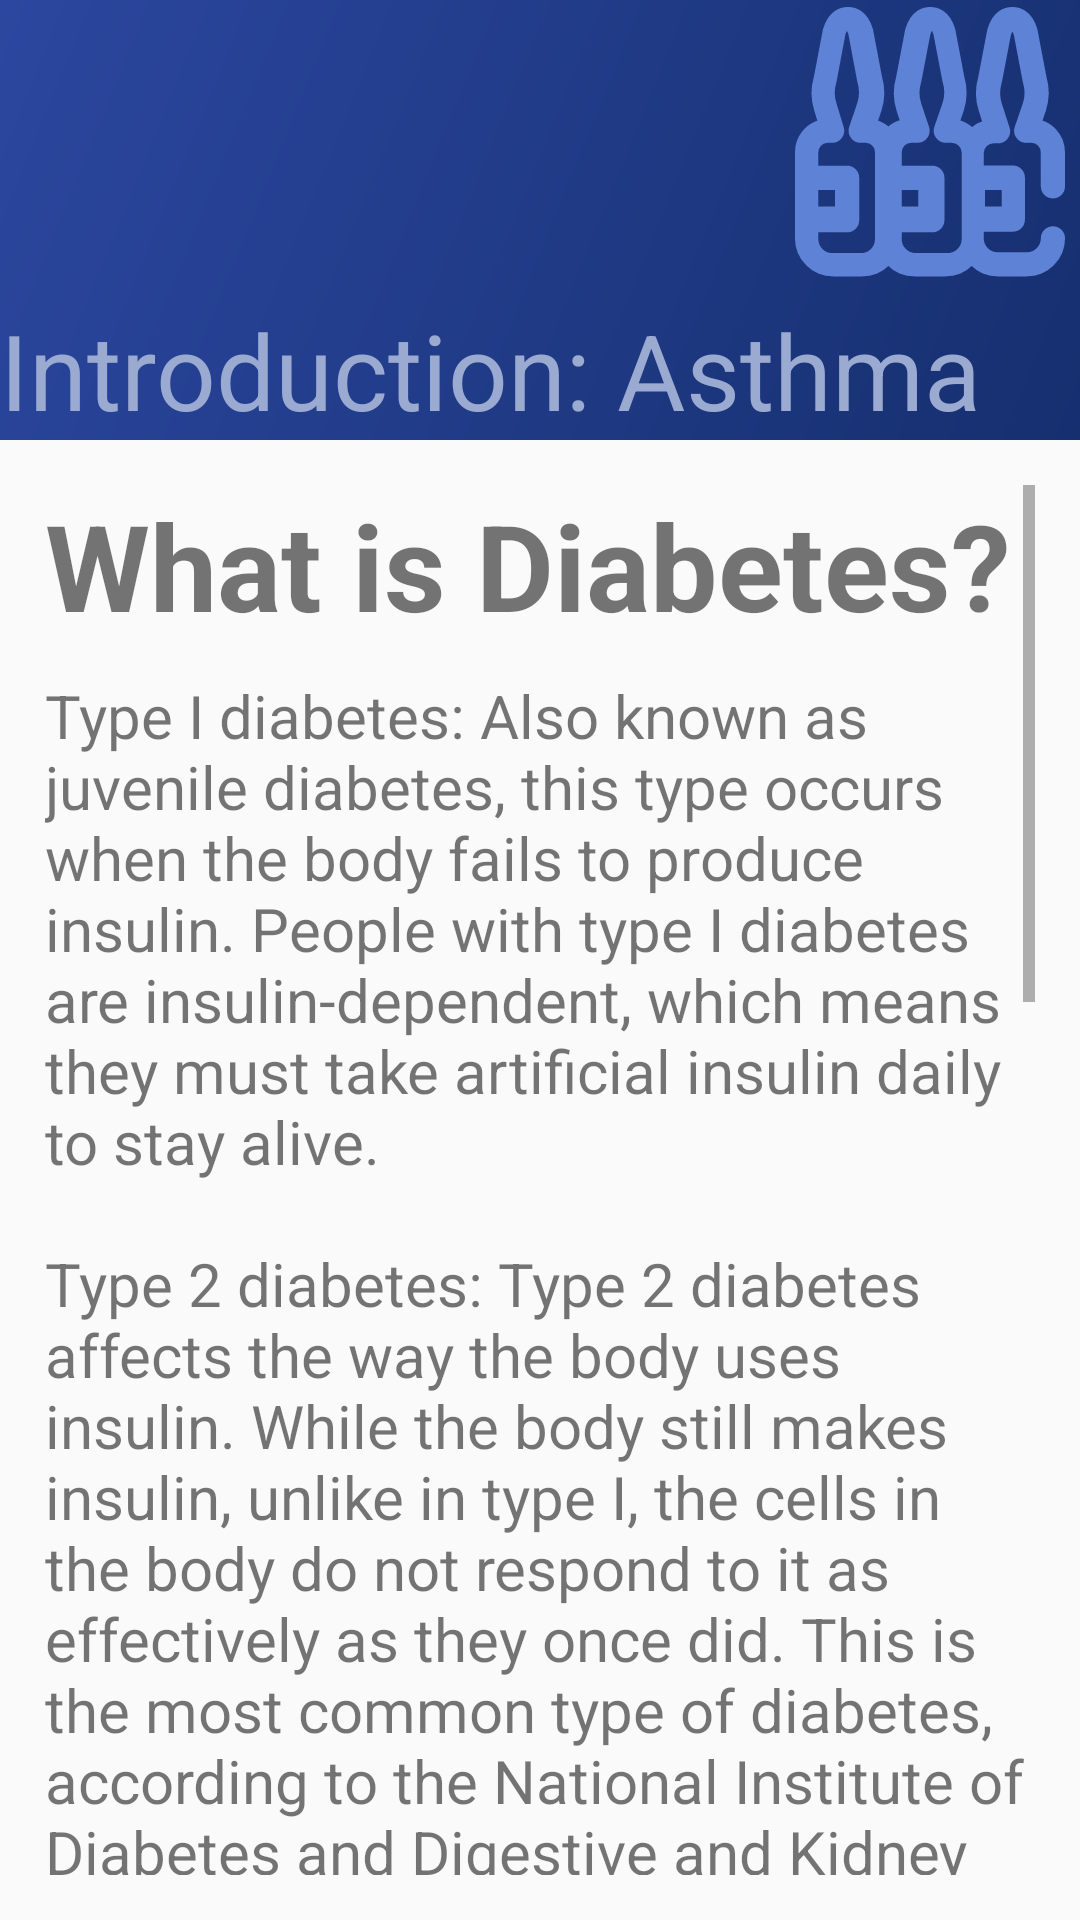

Screen size 1080px x 1920px. Icon name, then its box in pixels as bbox=[x1, y1, x2, y2]:
Diabetes: bbox=[795, 7, 1065, 277]
